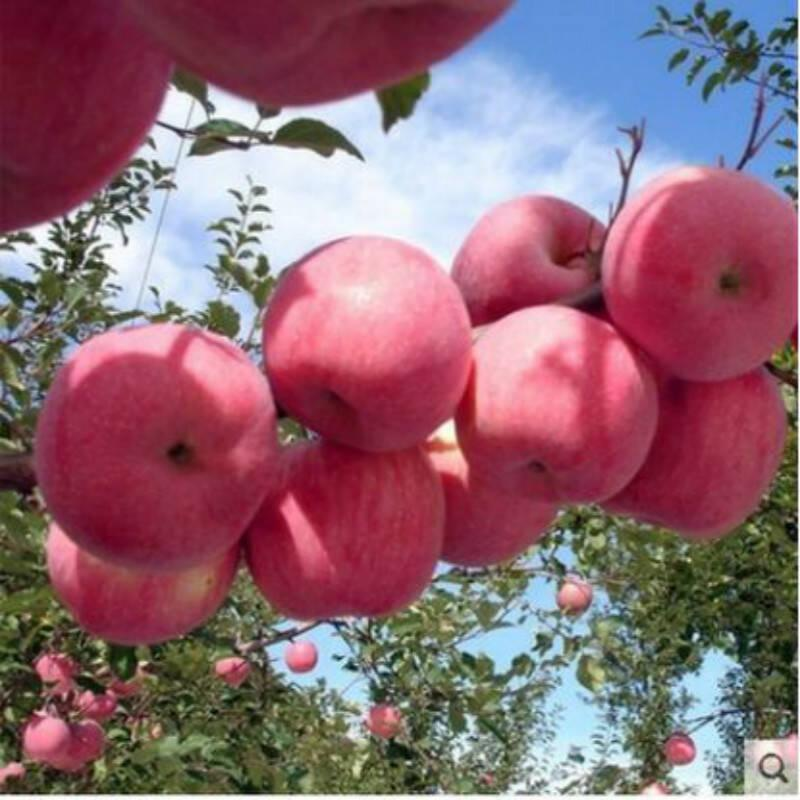apple: (31, 318, 288, 576), (257, 231, 474, 450), (449, 301, 659, 510), (599, 166, 799, 384), (250, 441, 446, 622), (448, 194, 606, 323)
